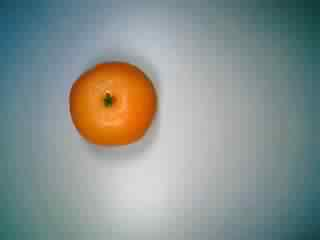orange: (65, 54, 160, 156)
